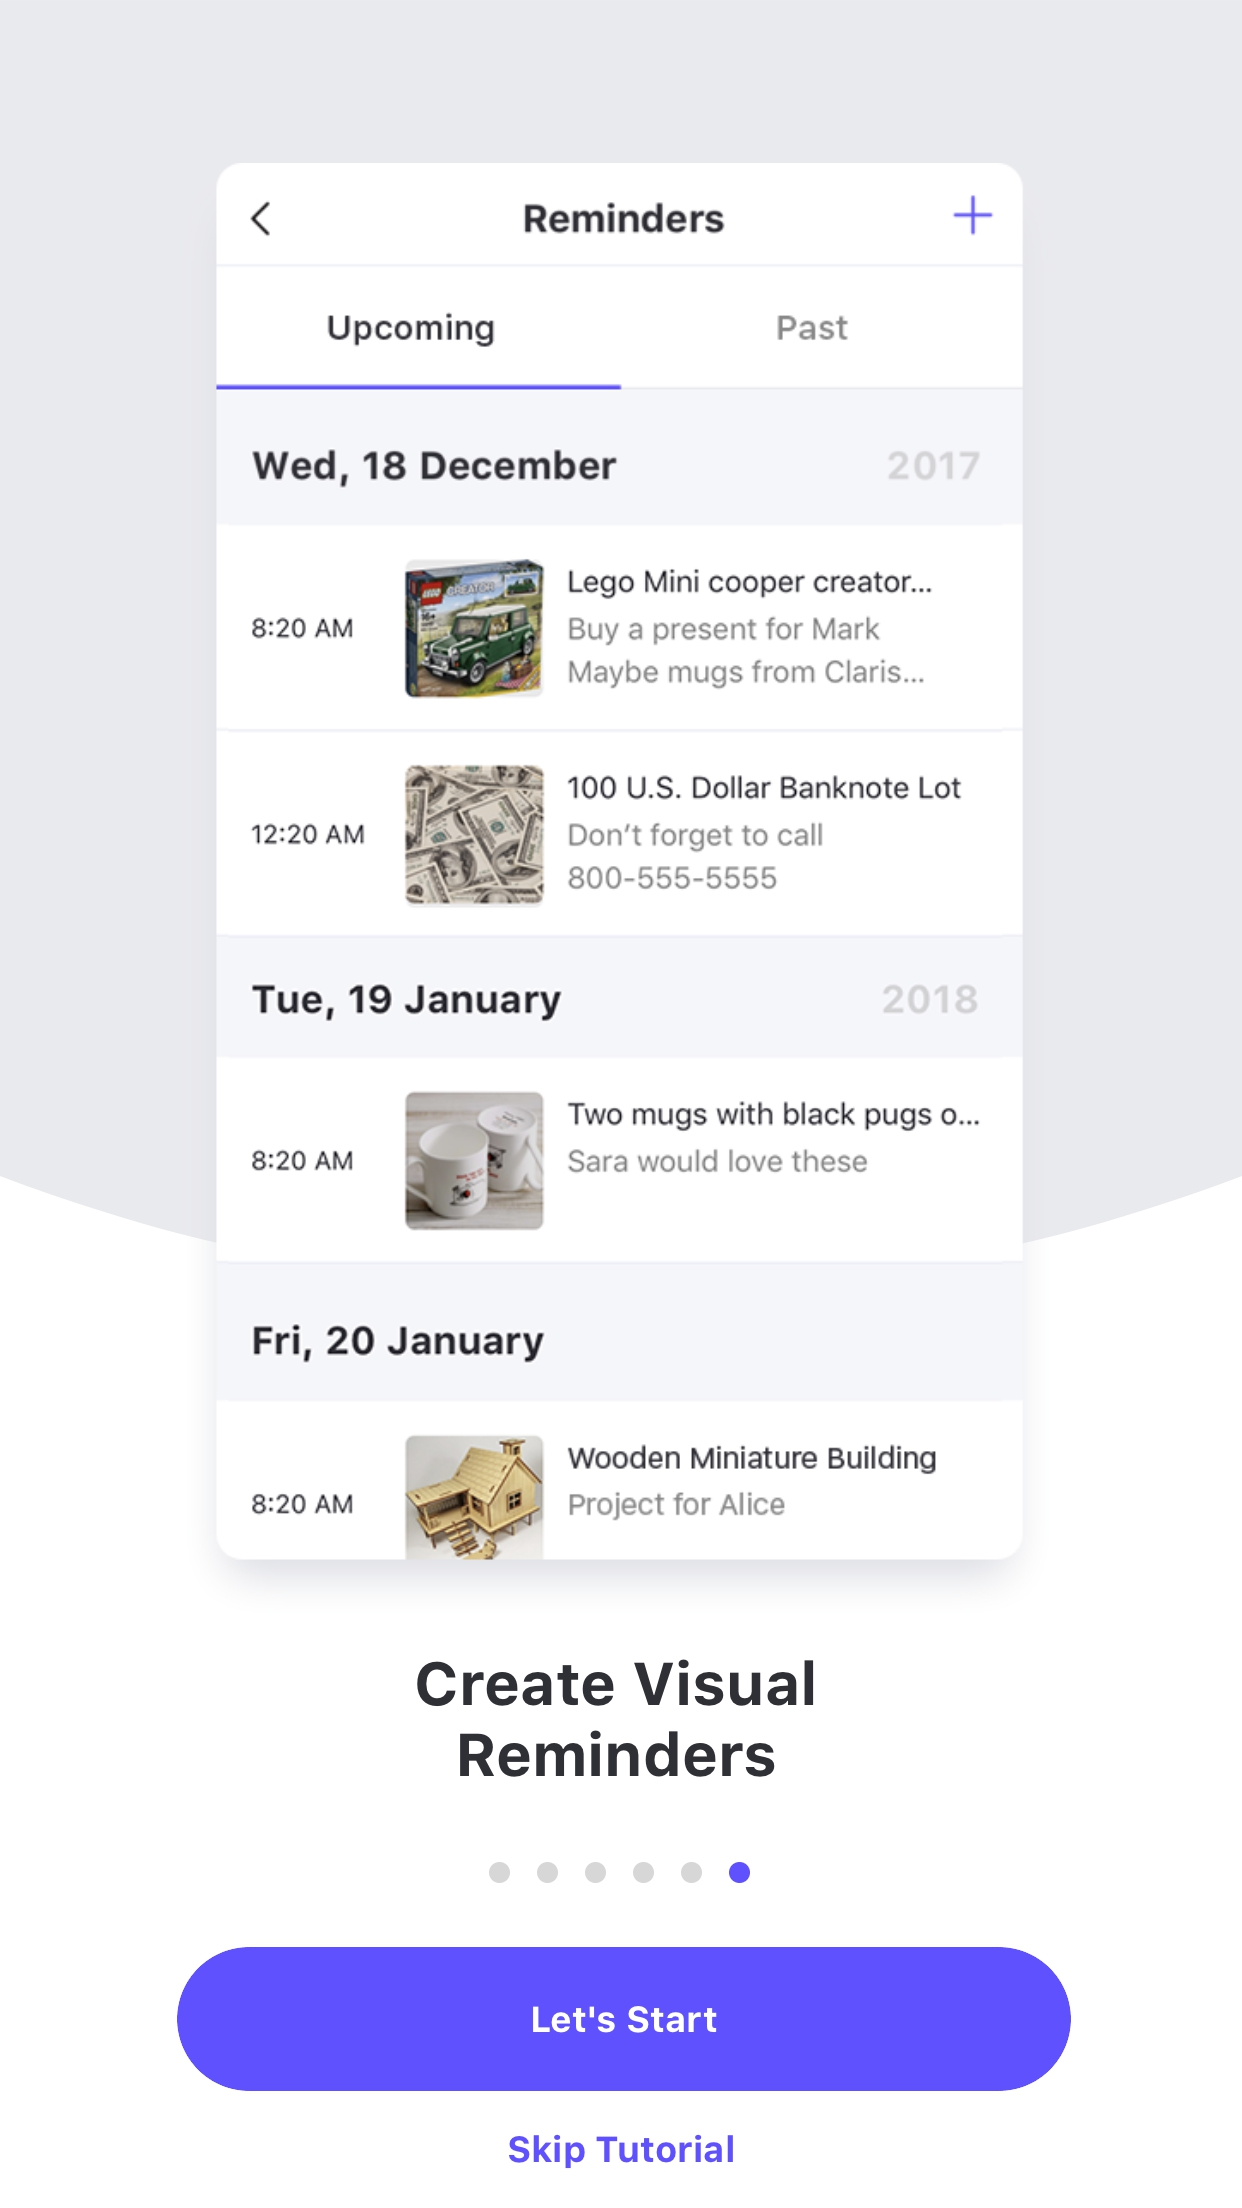Image: (217, 164, 1024, 1560)
PageIndicator: (488, 1862, 751, 1883)
Text: (417, 1658, 814, 1777), (510, 2134, 732, 2169)
TextButton: (177, 1946, 1071, 2091)
